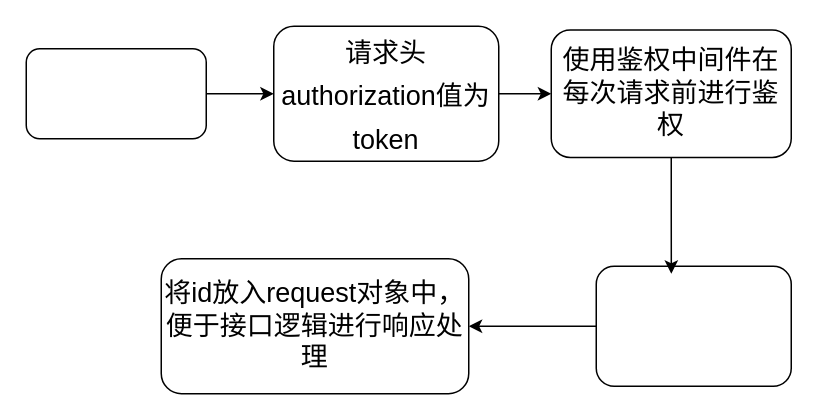
The diagram is 818 pixels wide and 420 high, and some of its shapes have lost their labels. The box of each missing label's shape, as (x1, y1, x2, y2) in pixels:
通过jwt.verify解析token获取用户的id: (595, 265, 791, 386)
鉴权: (25, 47, 206, 139)
